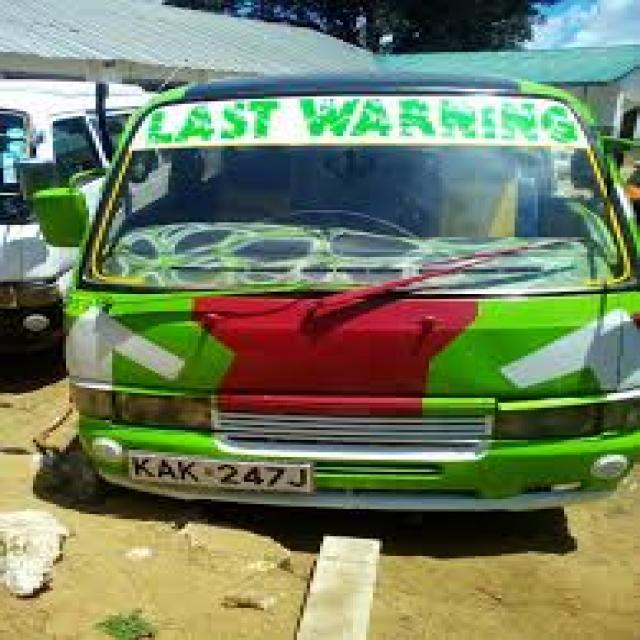matatu: (16, 32, 640, 534)
